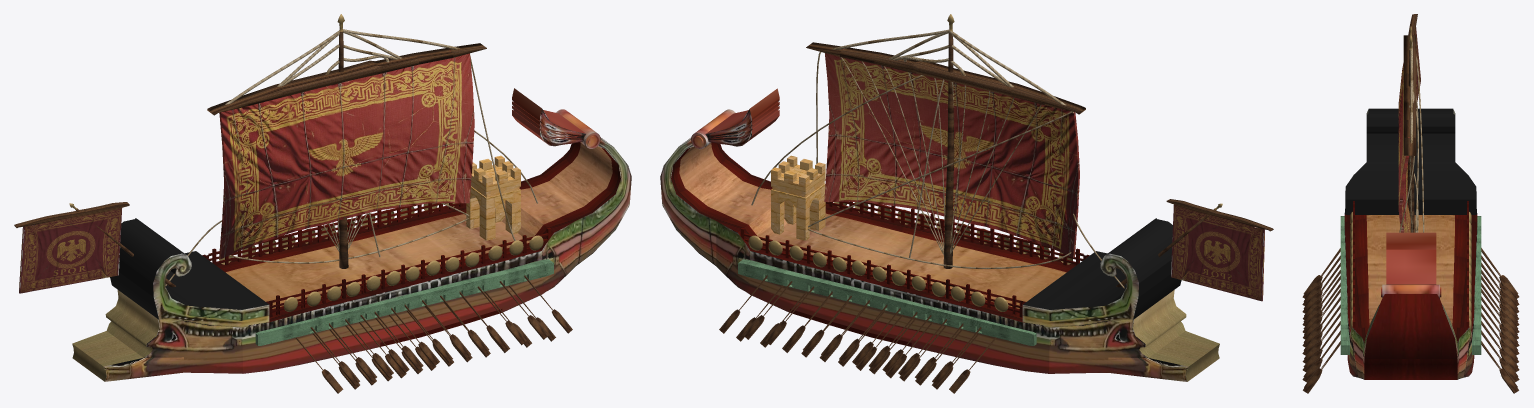
The model's file is quadrirreme.glb.
The picture shows the model from 3 angles, left to right: view 1: azimuth 30°, elevation 25°; view 2: azimuth 150°, elevation 25°; view 3: azimuth 270°, elevation 25°; orthographic projection. The views are drawn at different scales.
Parts seen in each view (by area): view 1: Cube, Plane, Cube.001, Plane.001, Cube.006, Cube.007, Cube.003, Cube.004, Cube.002, Cube.009, object 1, object 3 (+3 smaller); view 2: Cube, Plane, Cube.001, Plane.001, Cube.007, Cube.006, Cube.003, Cube.004, Cube.002, object 2, object 3, Cube.009 (+4 smaller); view 3: Cube, Cube.001, Cube.009, Cube.006, Cube.004, Plane, object 3, Cube.002, Cylinder.002, Cube.007, Cylinder, Cube.011 (+15 smaller).
Part boxes in pixels (left/top/right/bottom): Cube: left=72, top=137, right=631, bottom=381; Plane: left=219, top=50, right=474, bottom=258; Cube.001: left=110, top=218, right=269, bottom=327; Plane.001: left=19, top=208, right=121, bottom=293; Cube.006: left=255, top=259, right=553, bottom=345; Cube.007: left=202, top=203, right=551, bottom=317; Cube.003: left=466, top=155, right=520, bottom=240; Cube.004: left=207, top=43, right=486, bottom=115; Cube.002: left=219, top=203, right=543, bottom=311; Cube.009: left=512, top=88, right=585, bottom=146; object 1: left=225, top=29, right=460, bottom=104; object 3: left=165, top=56, right=537, bottom=286; Cube: left=660, top=137, right=1219, bottom=381; Plane: left=824, top=49, right=1079, bottom=257; Cube.001: left=1022, top=218, right=1181, bottom=327; Plane.001: left=1171, top=204, right=1264, bottom=301; Cube.007: left=740, top=201, right=1089, bottom=317; Cube.006: left=738, top=259, right=1036, bottom=345; Cube.003: left=771, top=155, right=825, bottom=240; Cube.004: left=806, top=42, right=1085, bottom=114; Cube.002: left=748, top=202, right=1072, bottom=311; object 2: left=841, top=57, right=1041, bottom=255; object 3: left=751, top=51, right=1124, bottom=288; Cube.009: left=705, top=88, right=779, bottom=146; Cube: left=1344, top=209, right=1477, bottom=379; Cube.001: left=1345, top=108, right=1476, bottom=214; Cube.009: left=1386, top=232, right=1436, bottom=284; Cube.006: left=1340, top=216, right=1481, bottom=354; Cube.004: left=1403, top=35, right=1416, bottom=155; Plane: left=1398, top=63, right=1410, bottom=232; object 3: left=1399, top=54, right=1424, bottom=232; Cube.002: left=1350, top=212, right=1471, bottom=329; Cylinder.002: left=1381, top=284, right=1441, bottom=298; Cube.007: left=1352, top=201, right=1469, bottom=327; Cylinder: left=1407, top=34, right=1414, bottom=232; Cube.011: left=1302, top=332, right=1519, bottom=382.
Size of the model in its own units: 286 by 149 by 102.
Materials: 13 (13 with a texture image).
